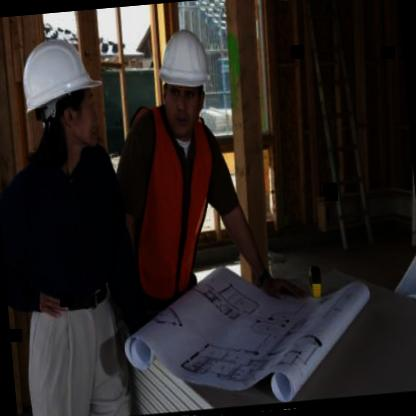helmet: (14, 23, 108, 168), (152, 18, 220, 141)
